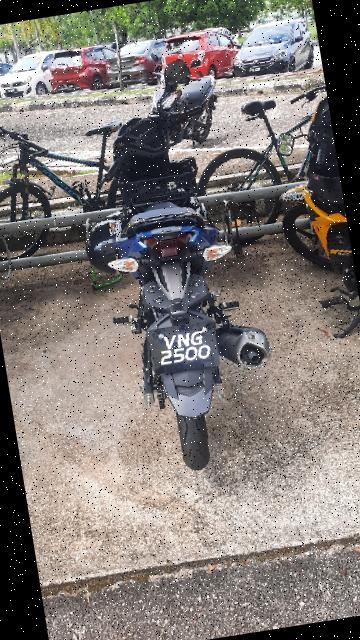License_Plate: (142, 318, 226, 381)
motorcycle: (62, 48, 293, 484)
